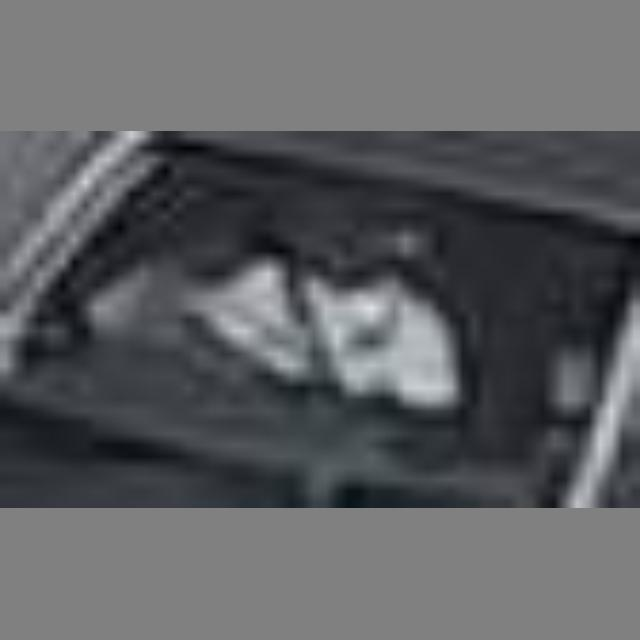pakai: (160, 245, 469, 451)
